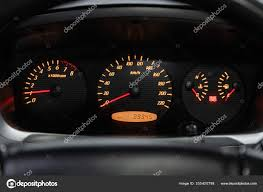Digital_Meter: (112, 111, 166, 123)
